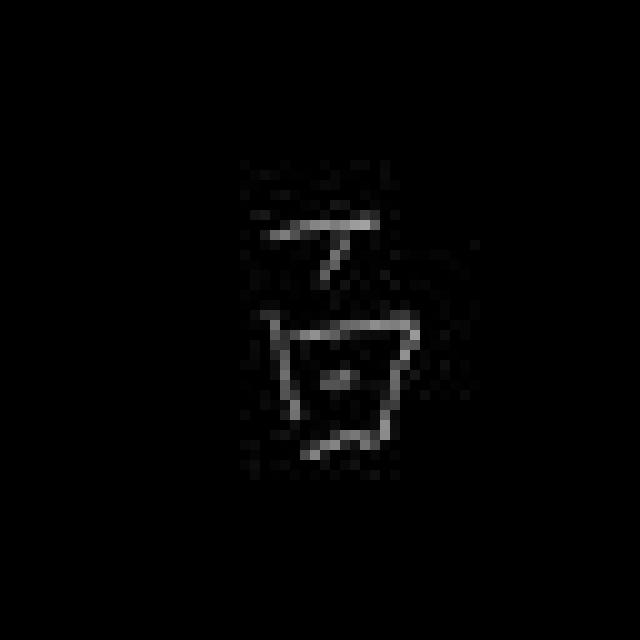100 -a hundred-: (249, 198, 431, 480)
